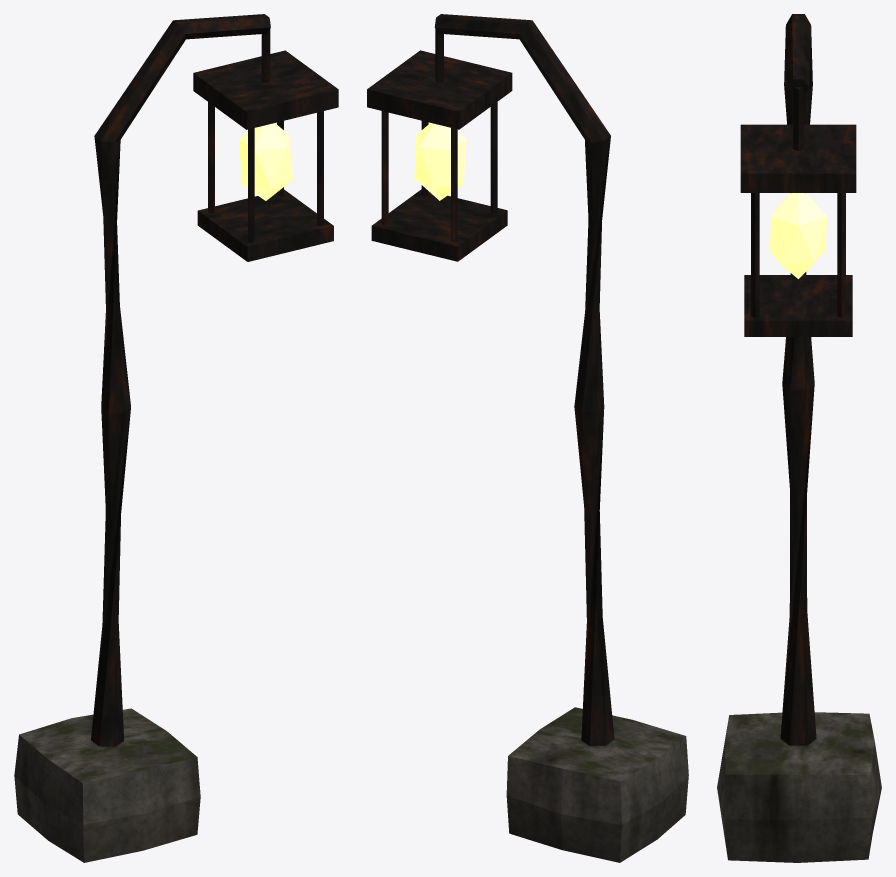
The model's file is grave_lantern.glb.
The picture shows the model from 3 angles, left to right: view 1: azimuth 30°, elevation 25°; view 2: azimuth 150°, elevation 25°; view 3: azimuth 270°, elevation 25°; orthographic projection. The views are drawn at different scales.
Parts seen in each view (by area): view 1: grave_lantern, grave_lantern_glow; view 2: grave_lantern, grave_lantern_glow; view 3: grave_lantern, grave_lantern_glow.
Part boxes in pixels (box(x1,y1,x2,y2)): grave_lantern: box(14, 14, 338, 862); grave_lantern_glow: box(239, 123, 292, 200); grave_lantern: box(367, 14, 688, 862); grave_lantern_glow: box(414, 123, 466, 200); grave_lantern: box(717, 14, 881, 862); grave_lantern_glow: box(770, 193, 827, 278).
Bounding box in the file's own units: 0.9365 × 2.63 × 0.4573.
Materials: 2 (1 with a texture image).
